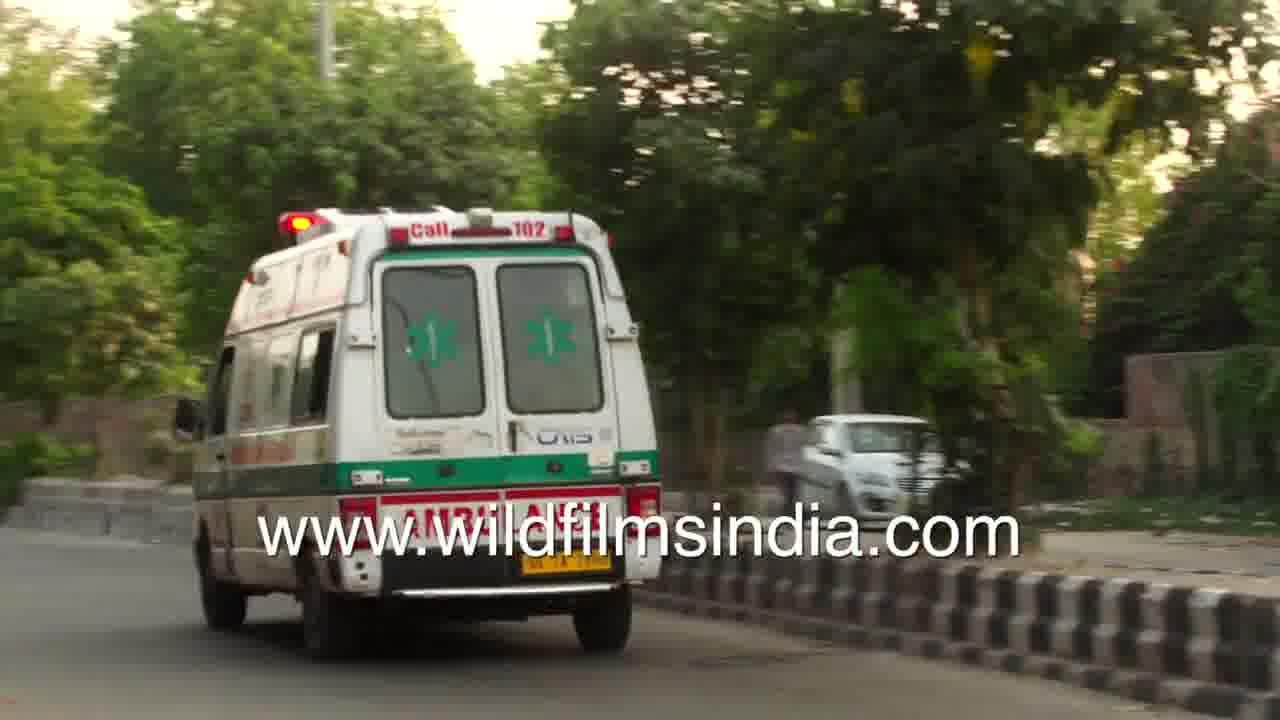AMBULANCE: (189, 197, 646, 496)
